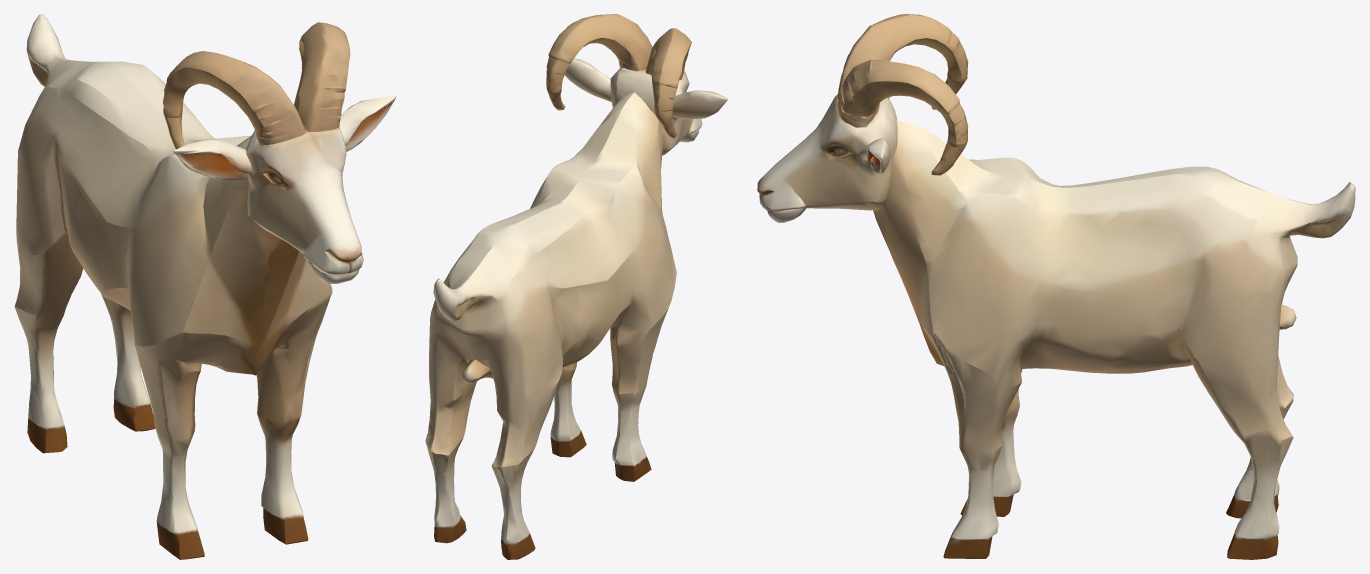
Rendered from goat.glb.
3 renders of one model, left to right at view 1: azimuth 30°, elevation 25°; view 2: azimuth 150°, elevation 25°; view 3: azimuth 270°, elevation 25°, orthographic. The views are drawn at different scales.
Parts seen in each view (by area): view 1: goat.001; view 2: goat.001; view 3: goat.001.
Boxes of the visible parts, bbox=[...] form: goat.001: bbox=[14, 14, 396, 559]; goat.001: bbox=[425, 14, 728, 559]; goat.001: bbox=[757, 14, 1355, 559].
Bounding box in the file's own units: 0.3979 × 0.9 × 0.9873.
Materials: 1 (1 with a texture image).
